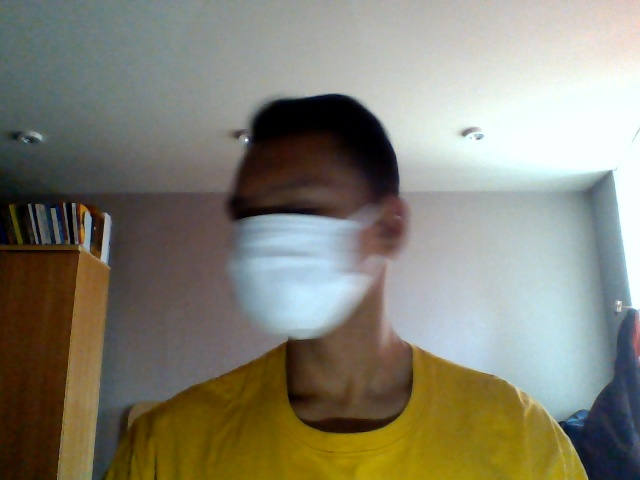mask: (215, 221, 370, 344)
